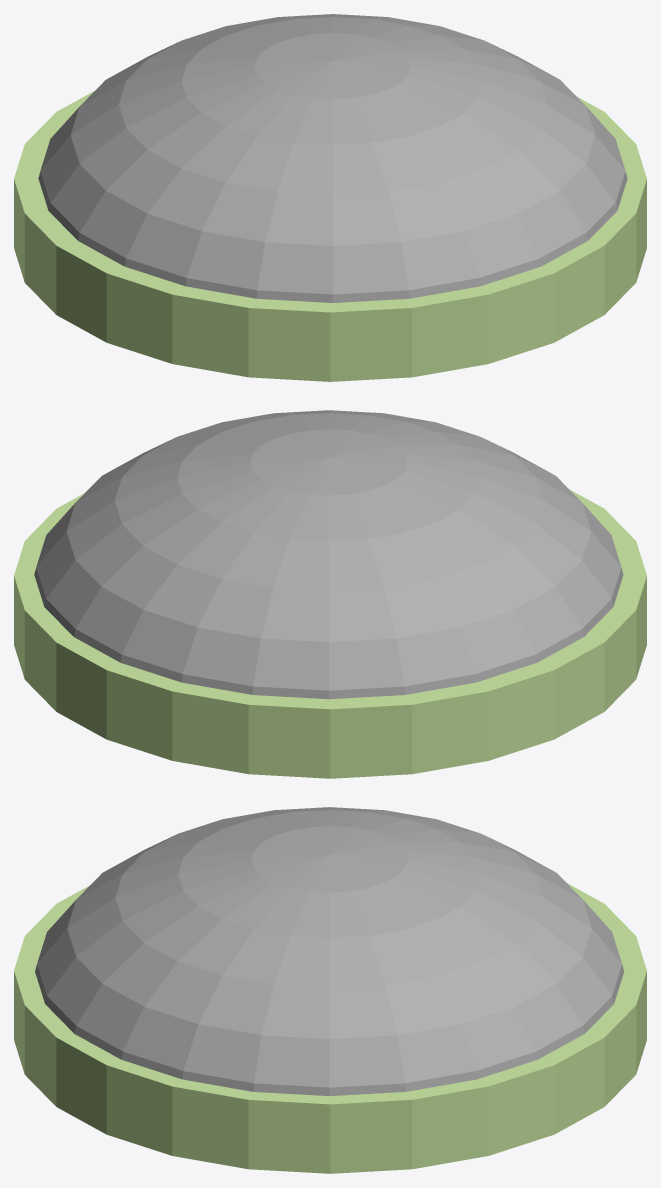
The model's file is Luke1_1.fbx.
3 renders of one model, top to bottom at view 1: azimuth 30°, elevation 25°; view 2: azimuth 150°, elevation 25°; view 3: azimuth 270°, elevation 25°, orthographic.
Visible parts, largest first — view 1: Cylinder_3; view 2: Cylinder_3; view 3: Cylinder_3.
Part boxes in pixels (<box>): Cylinder_3: <box>14,14,646,381</box>; Cylinder_3: <box>14,410,646,778</box>; Cylinder_3: <box>14,807,646,1173</box>.
Size of the model in its own units: 120 by 39.17 by 120.
